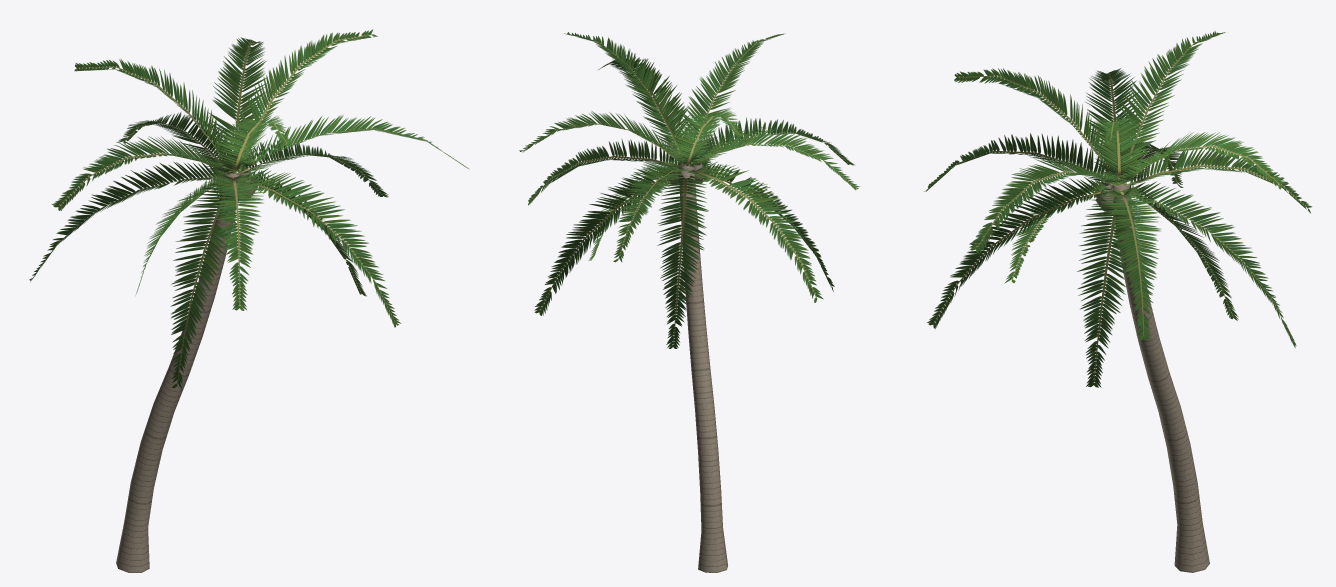
Rendered from veg_palm_coconut_b.glb.
The picture shows the model from 3 angles, left to right: view 1: azimuth 30°, elevation 25°; view 2: azimuth 150°, elevation 25°; view 3: azimuth 270°, elevation 25°; orthographic projection. The views are drawn at different scales.
Parts seen in each view (by area): view 1: Leaves, Trunk; view 2: Leaves, Trunk; view 3: Leaves, Trunk.
Part boxes in pixels (<box>): Leaves: <box>29,29,469,389</box>; Trunk: <box>116,170,257,572</box>; Leaves: <box>519,32,859,348</box>; Trunk: <box>667,162,727,572</box>; Leaves: <box>924,31,1312,387</box>; Trunk: <box>1095,183,1209,572</box>.
Size of the model in its own units: 28.88 by 38.17 by 26.97.
Materials: 2 (2 with a texture image).
